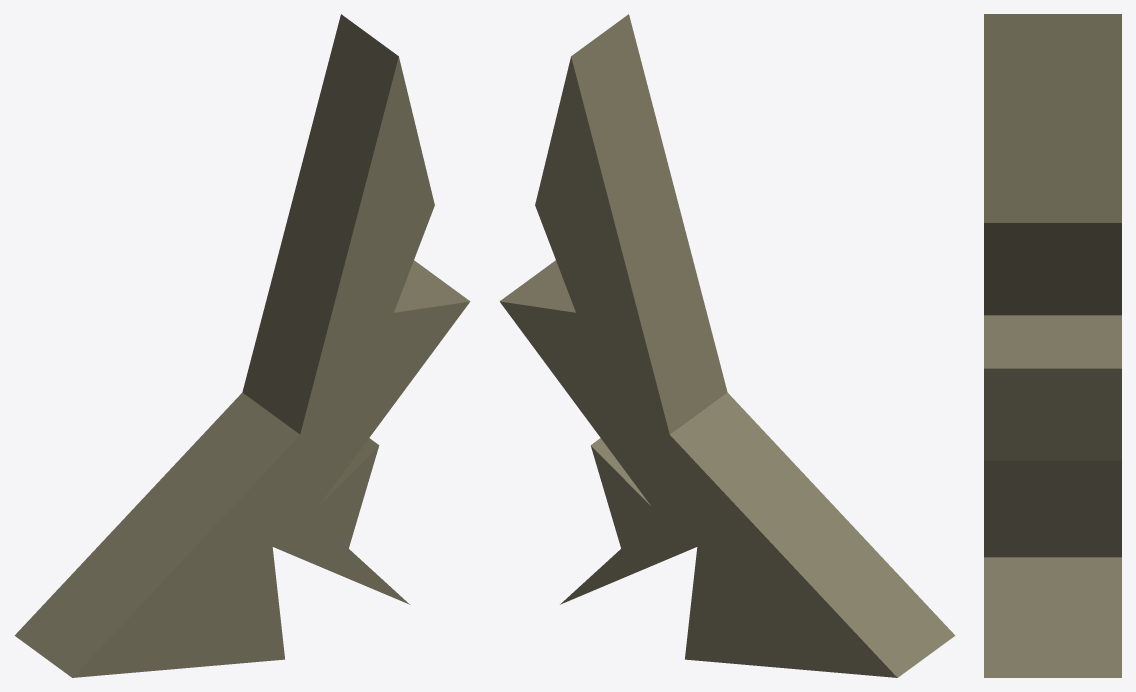
File: terrain_7.glb
3 renders of one model, left to right at view 1: azimuth 30°, elevation 25°; view 2: azimuth 150°, elevation 25°; view 3: azimuth 270°, elevation 25°, orthographic. The views are drawn at different scales.
Visible parts, largest first — view 1: terrain_7; view 2: terrain_7; view 3: terrain_7.
Part boxes in pixels (bbox=[...]): terrain_7: bbox=[14, 14, 470, 677]; terrain_7: bbox=[499, 14, 955, 677]; terrain_7: bbox=[984, 14, 1121, 677].
Size of the model in its own units: 7.95 by 10.98 by 2.
